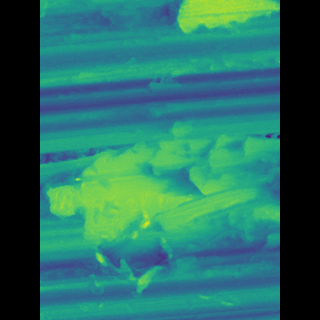Loch: (67, 120, 250, 304), (169, 0, 248, 36)
